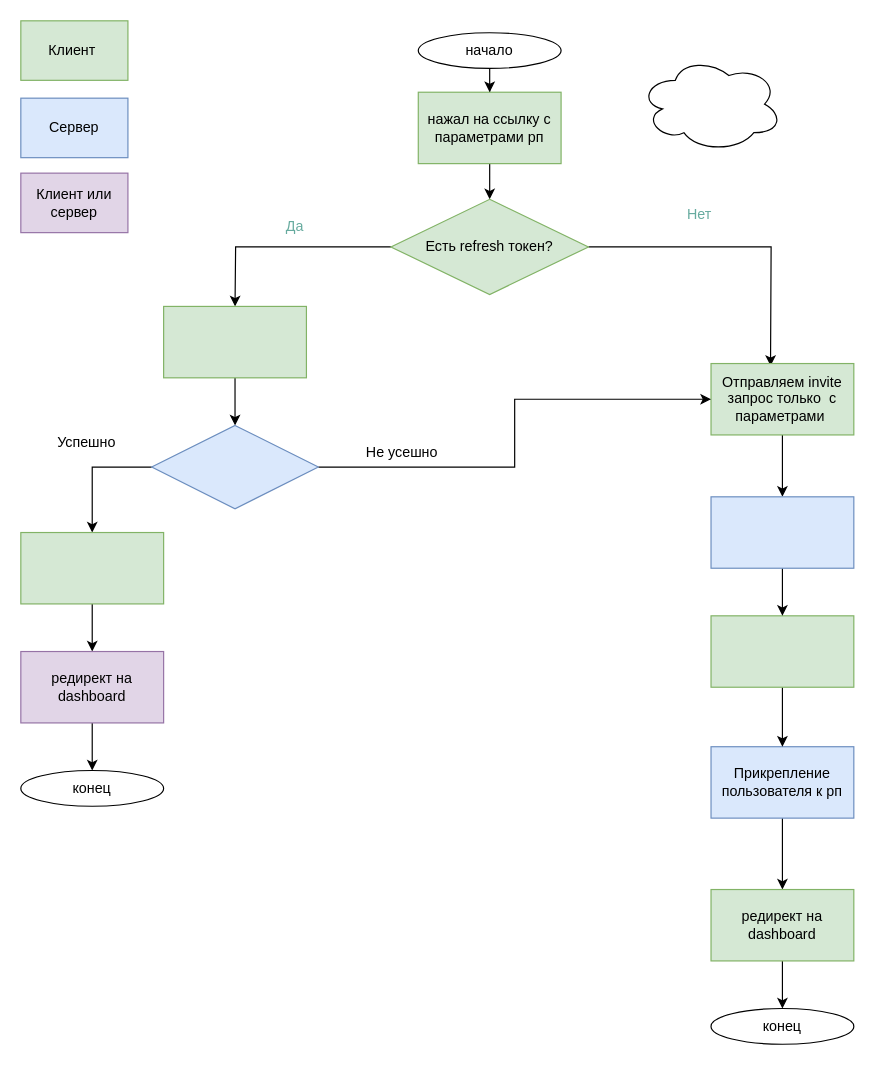
Image size: 875x1065. Some labels were removed from this diagram. Each missing label, with the box of its shape:
авторизация с параметрами рп: (710, 615, 854, 687)
Валидация refresh токена: (151, 424, 318, 509)
На эндпоинте не должно быть мидлвари: (638, 55, 782, 152)
Отправляем invite запрос с access токеном: (20, 531, 164, 604)
Отправляем запрос на получения access токена: (162, 305, 306, 378)
редирект на авторизацию с параметрами: (710, 496, 854, 568)
